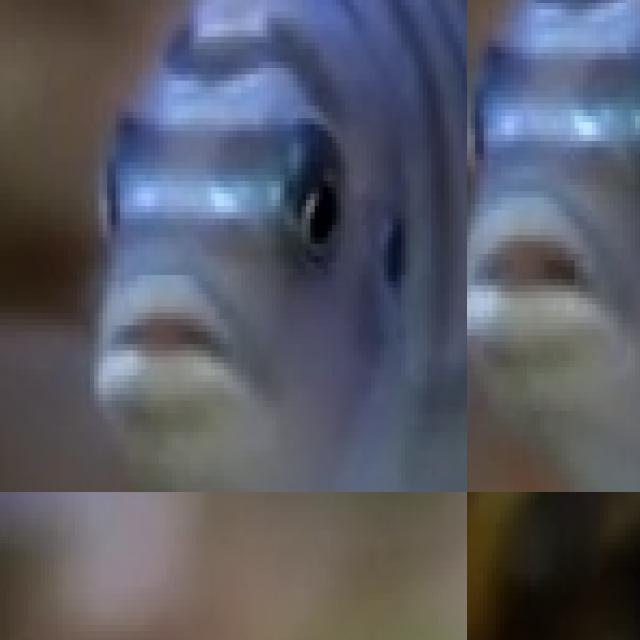fish: (0, 5, 467, 492), (467, 0, 640, 492), (467, 492, 640, 640)
